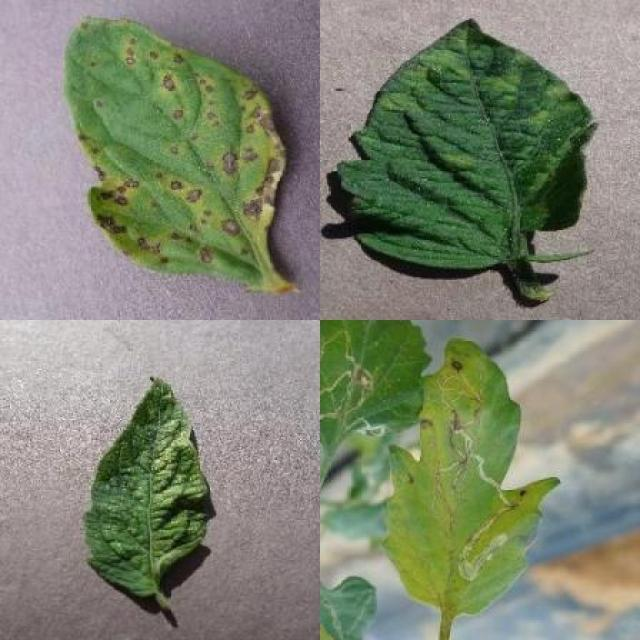Leaf Miner: (382, 338, 564, 616)
Leaf Mold: (336, 19, 596, 270)
Septoria: (64, 16, 305, 296)
Spider Mites: (85, 376, 218, 596)
